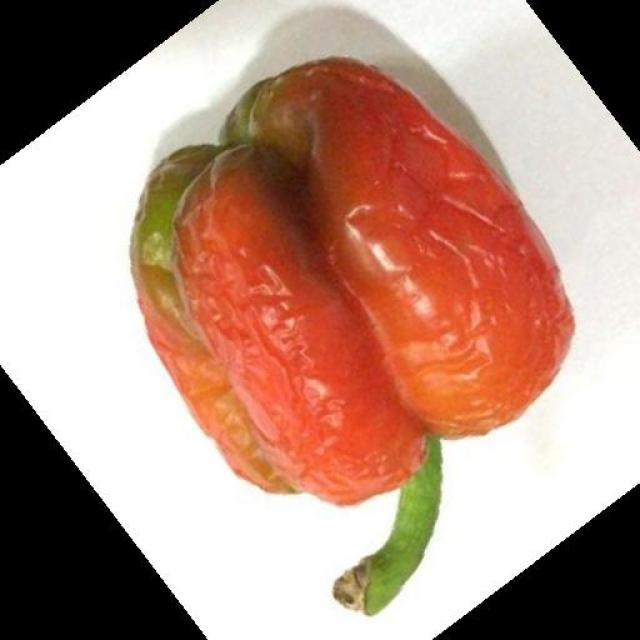Stale_Capsicum: (127, 110, 582, 561)
